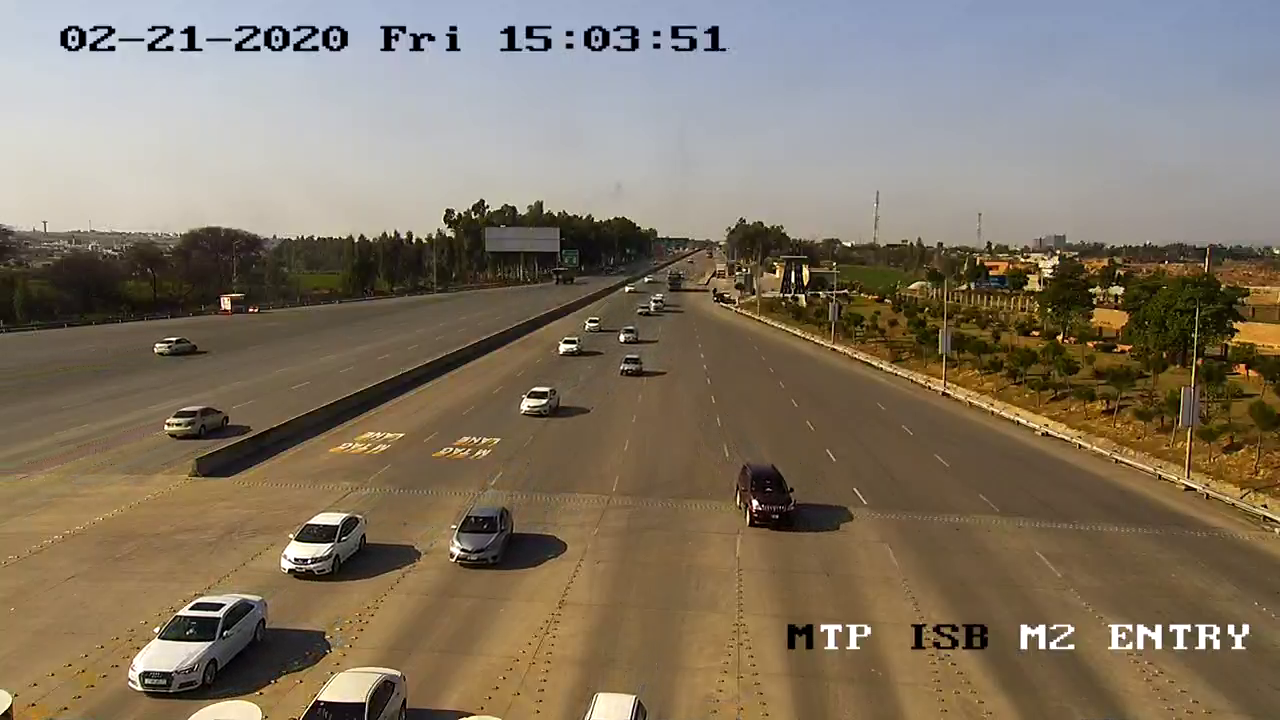f1: (120, 581, 272, 703), (269, 498, 379, 586), (723, 457, 812, 535), (440, 491, 520, 575)
